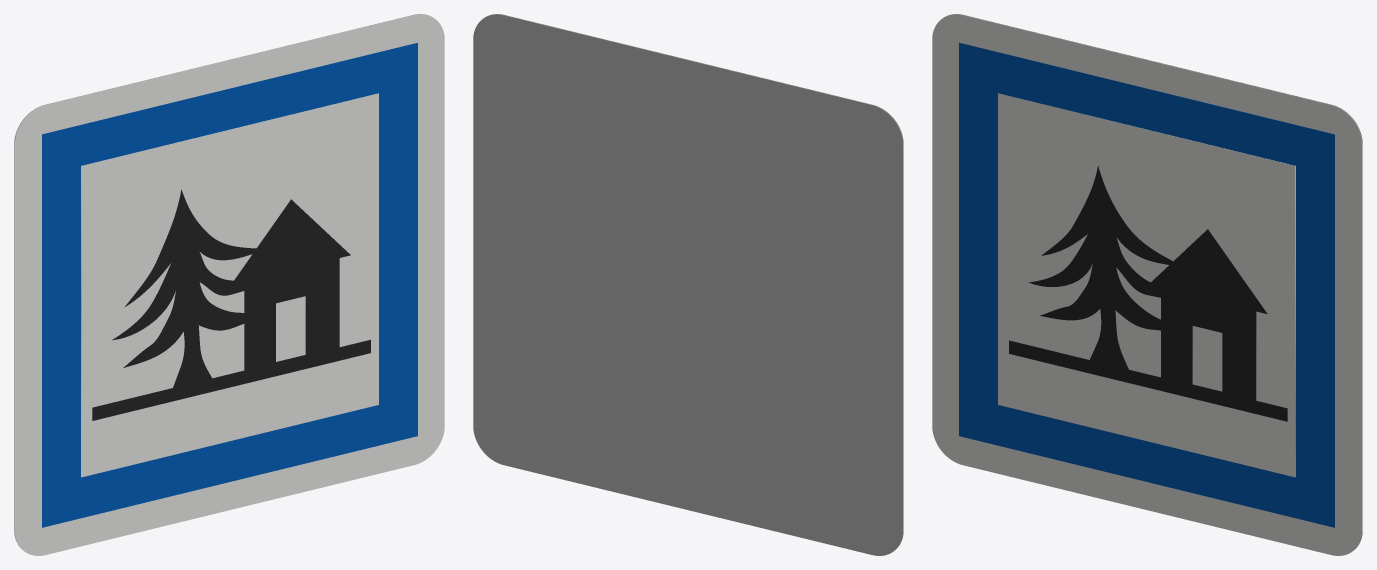
3 views of the same model, side by side, from view 1: azimuth 30°, elevation 25°; view 2: azimuth 150°, elevation 25°; view 3: azimuth 330°, elevation 25° (orthographic).
Parts seen in each view (by area): view 1: CE5a_p02, CE5a_p01, CE5a_p00, CE5a_p03, CE5a_dos; view 2: CE5a_dos, CE5a_p00; view 3: CE5a_p02, CE5a_p01, CE5a_p00, CE5a_p03, CE5a_dos.
Part boxes in pixels (box(x1,y1,x2,y2)): CE5a_p02: box(81, 93, 378, 477); CE5a_p01: box(42, 42, 417, 527); CE5a_p00: box(14, 14, 444, 555); CE5a_p03: box(92, 189, 370, 420); CE5a_dos: box(14, 14, 431, 547); CE5a_dos: box(473, 14, 903, 555); CE5a_p00: box(486, 14, 903, 547); CE5a_p02: box(998, 93, 1295, 477); CE5a_p01: box(959, 42, 1334, 527); CE5a_p00: box(932, 14, 1362, 555); CE5a_p03: box(1009, 165, 1287, 421); CE5a_dos: box(945, 14, 1362, 547).
Bounding box in the file's own units: 0.7 × 0.6999 × 0.0031.
